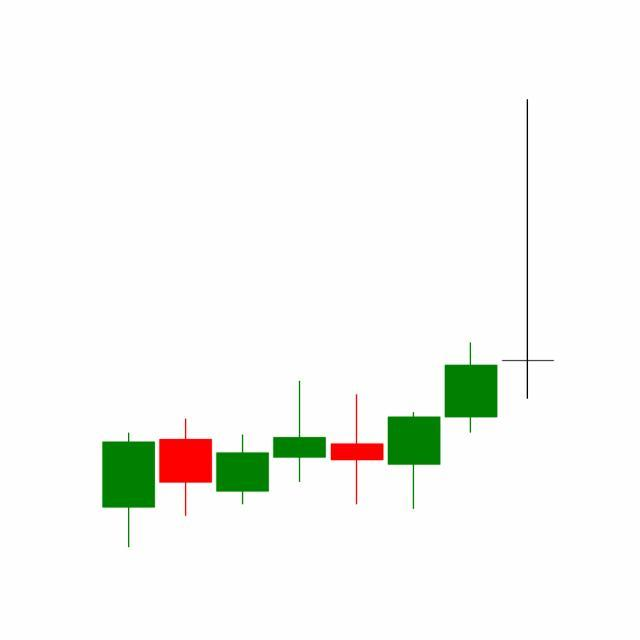Three Outside Up-Down: (328, 341, 500, 512)
